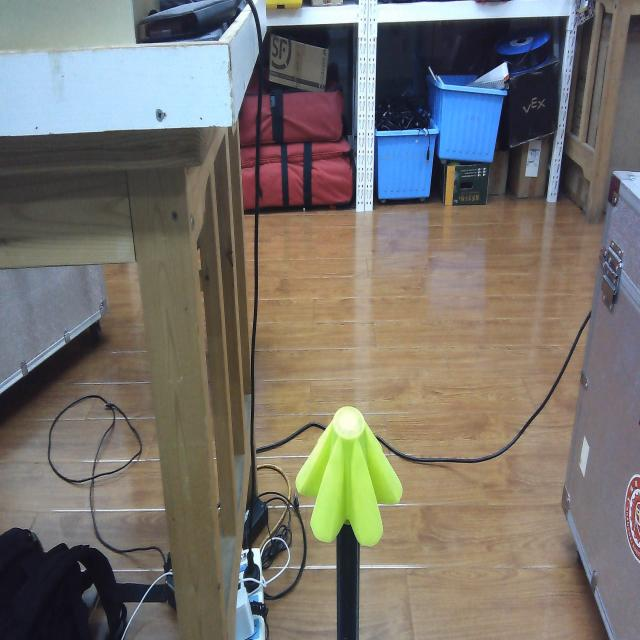Yellow-Stake-Head: (295, 405, 403, 546)
